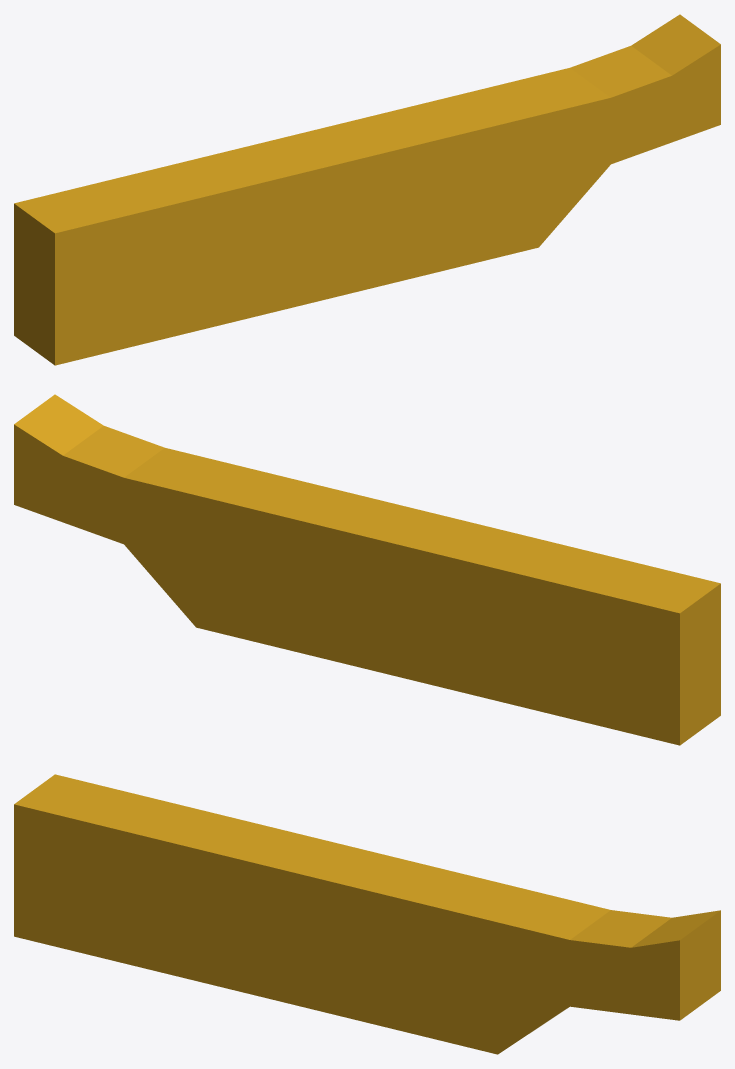
Rendered from Asian_Prop_Building_Modular_Roof_Ridge_02.FBX.
3 views of the same model, one above another, from view 1: azimuth 30°, elevation 25°; view 2: azimuth 150°, elevation 25°; view 3: azimuth 330°, elevation 25° (orthographic).
Parts seen in each view (by area): view 1: Asian_Prop_Building_Modular_Roof_Ridge_02; view 2: Asian_Prop_Building_Modular_Roof_Ridge_02; view 3: Asian_Prop_Building_Modular_Roof_Ridge_02.
Boxes of the visible parts, x1=… form: Asian_Prop_Building_Modular_Roof_Ridge_02: x1=14, y1=14, x2=720, y2=365; Asian_Prop_Building_Modular_Roof_Ridge_02: x1=14, y1=394, x2=720, y2=745; Asian_Prop_Building_Modular_Roof_Ridge_02: x1=14, y1=774, x2=720, y2=1054.
Bounding box in the file's own units: 3937 × 897 × 420.
